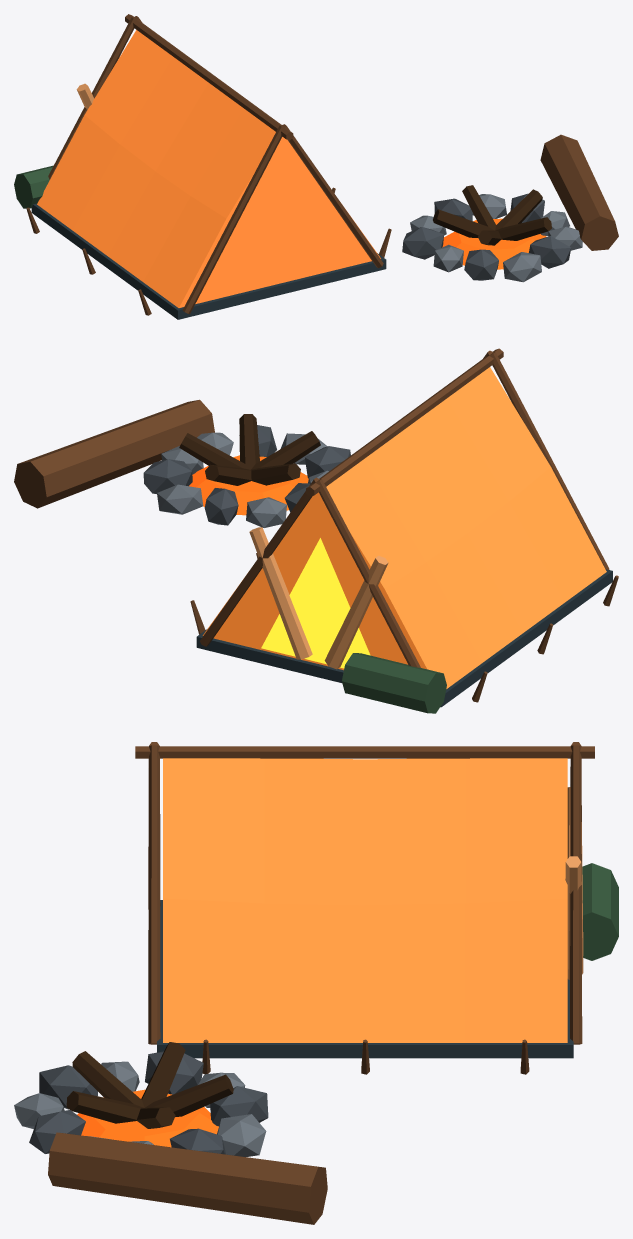
Rendered from campsite.glb.
3 views of the same model, one above another, from view 1: azimuth 30°, elevation 25°; view 2: azimuth 150°, elevation 25°; view 3: azimuth 270°, elevation 25° (orthographic). The views are drawn at different scales.
Parts seen in each view (by area): view 1: Tent, CampfirePit; view 2: Tent, CampfirePit; view 3: Tent, CampfirePit.
Part boxes in pixels (box(x1,y1,x2,y2)): Tent: box(14, 14, 391, 319); CampfirePit: box(402, 134, 618, 282); Tent: box(190, 348, 618, 713); CampfirePit: box(14, 399, 350, 527); Tent: box(135, 742, 618, 1074); CampfirePit: box(14, 1042, 327, 1224).
Size of the model in its own units: 6.43 by 2.24 by 4.94.
